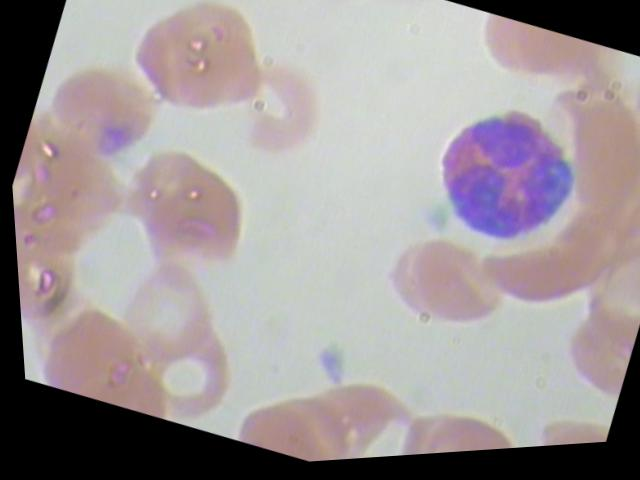Platelets: (298, 336, 355, 395)
Red Blood Cells: (102, 135, 275, 292), (116, 0, 287, 139), (358, 221, 513, 358), (29, 43, 171, 178), (100, 248, 228, 378), (118, 312, 246, 441), (215, 52, 338, 175), (290, 369, 434, 465), (11, 214, 94, 344), (508, 409, 605, 454), (413, 425, 532, 459)
White Blood Cells: (400, 84, 605, 278)
